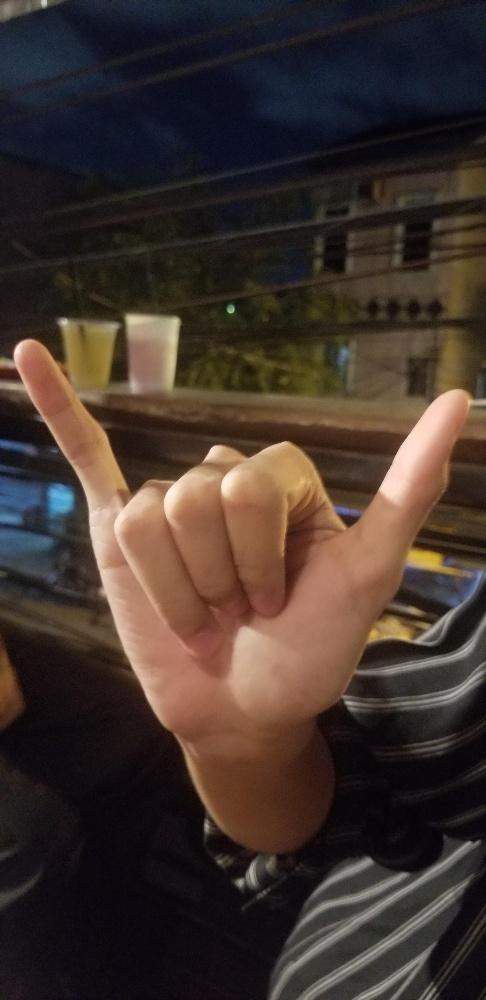y: (12, 331, 470, 732)
